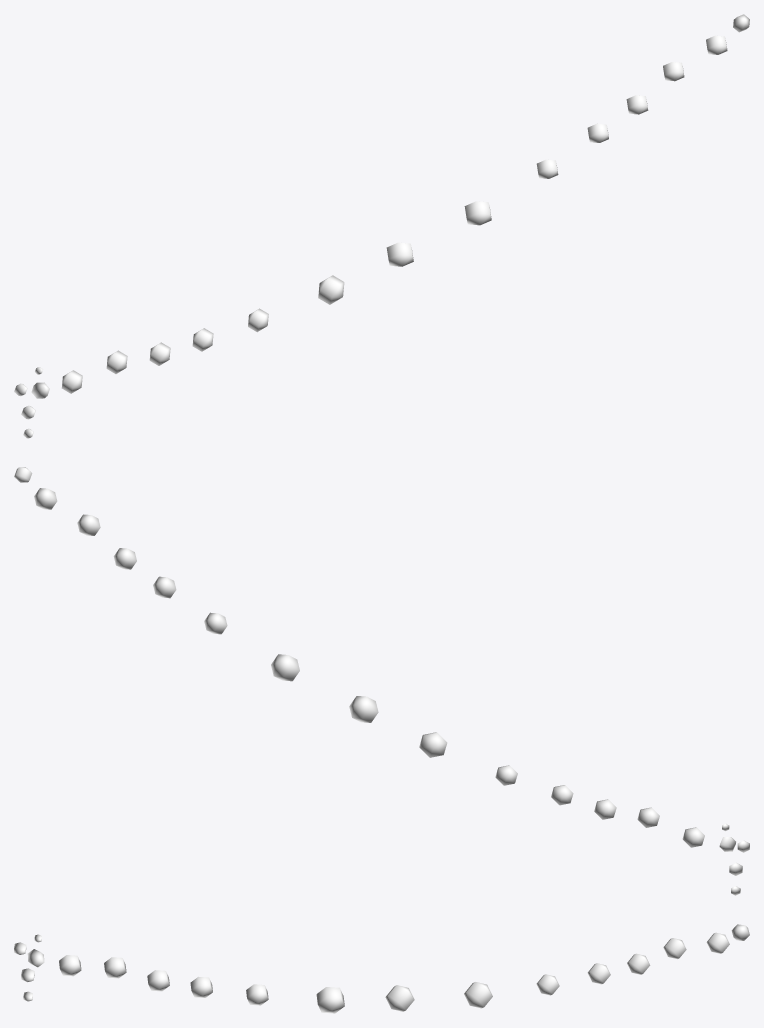
Rendered from Prop_HangingLights.glb.
3 views of the same model, one above another, from view 1: azimuth 30°, elevation 25°; view 2: azimuth 150°, elevation 25°; view 3: azimuth 330°, elevation 25° (orthographic).
Visible parts, largest first — view 1: Prop_HangingLights; view 2: Prop_HangingLights; view 3: Prop_HangingLights.
Part boxes in pixels (x1,y1,x2,y2): Prop_HangingLights: (14, 14, 749, 438); Prop_HangingLights: (14, 467, 749, 895); Prop_HangingLights: (14, 924, 749, 1013).
Size of the model in its own units: 22.16 by 7.26 by 0.7286.
Materials: 1 (1 with a texture image).
